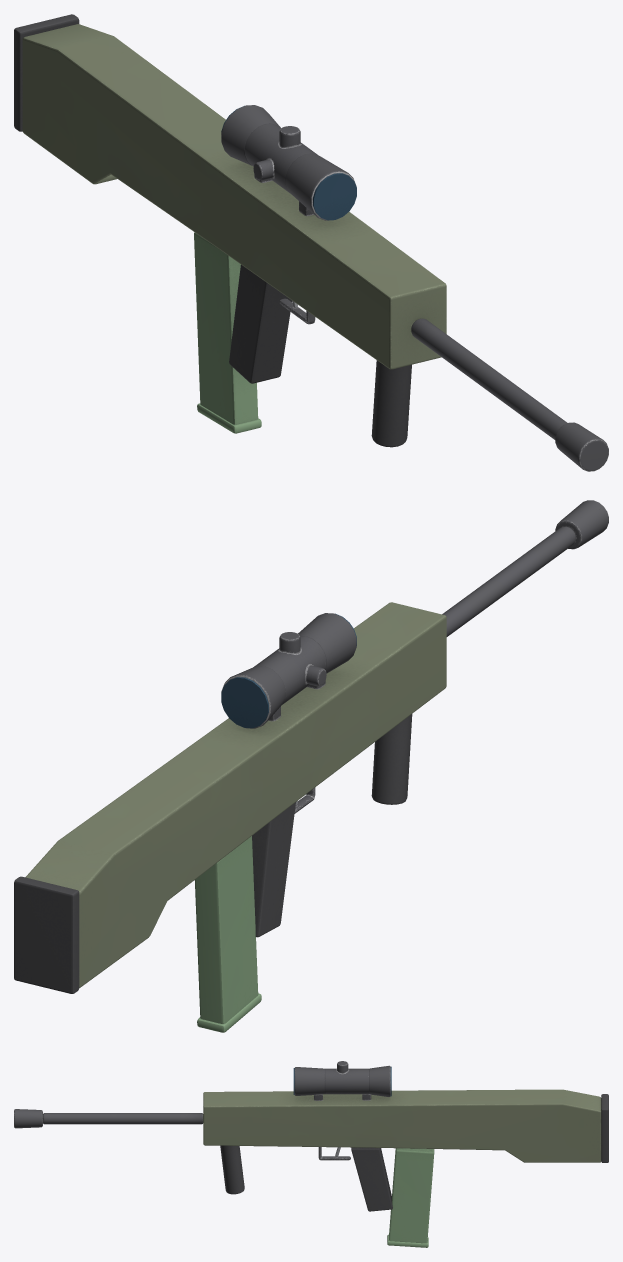
File: aug.fbx
3 renders of one model, top to bottom at view 1: azimuth 30°, elevation 25°; view 2: azimuth 150°, elevation 25°; view 3: azimuth 270°, elevation 25°, orthographic. The views are drawn at different scales.
Visible parts, largest first — view 1: aug; view 2: aug; view 3: aug.
Boxes of the visible parts, x1,y1,x2,y2 form: aug: (14,14,608,471); aug: (14,500,608,1032); aug: (14,1061,608,1247).
Bounding box in the file's own units: 0.0614 × 0.3127 × 0.927.
